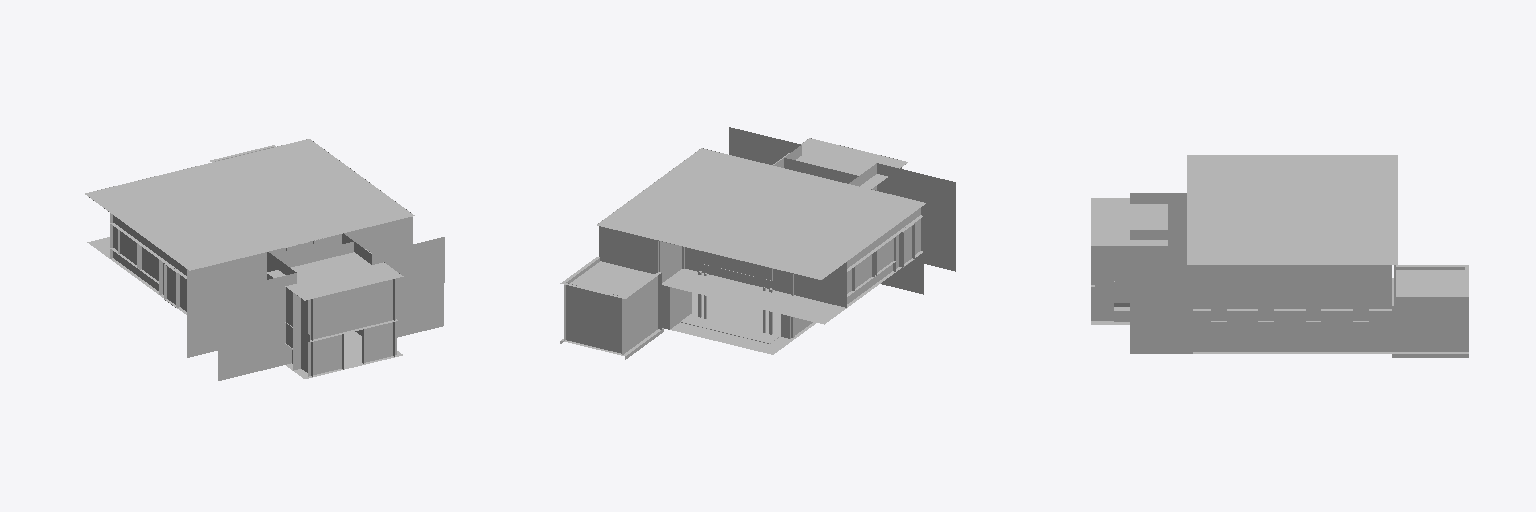
The model's file is RZ_exit1_gateb.obj.
3 views of the same model, side by side, from view 1: azimuth 30°, elevation 25°; view 2: azimuth 150°, elevation 25°; view 3: azimuth 270°, elevation 25° (orthographic).
Parts seen in each view (by area): view 1: RZ_exit1_gateb; view 2: RZ_exit1_gateb; view 3: RZ_exit1_gateb.
Boxes of the visible parts, x1=… form: RZ_exit1_gateb: x1=85, y1=139, x2=444, y2=380; RZ_exit1_gateb: x1=560, y1=127, x2=955, y2=359; RZ_exit1_gateb: x1=1091, y1=155, x2=1468, y2=357.
Bounding box in the file's own units: 21.34 × 8.33 × 30.72.